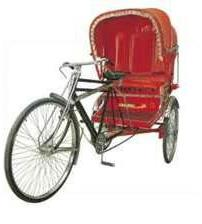Rickshaw: (4, 4, 179, 201)
